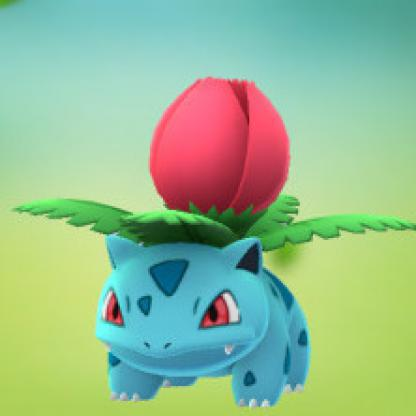Ivysaur: (9, 65, 413, 395)
